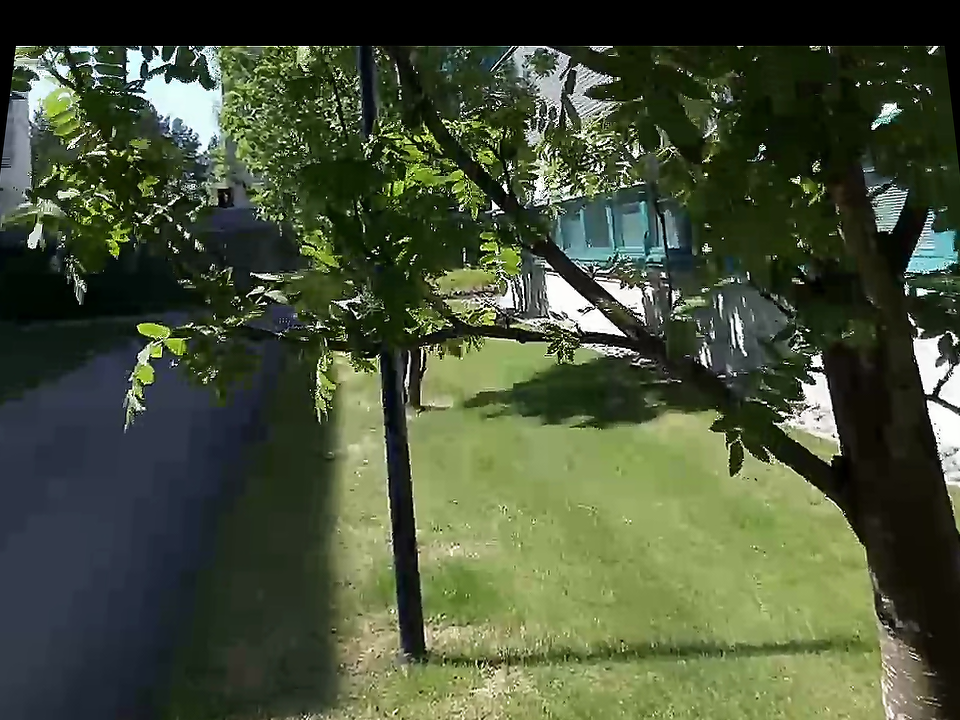branch: (472, 324, 604, 350)
trunk: (745, 93, 939, 361), (816, 357, 958, 719)
